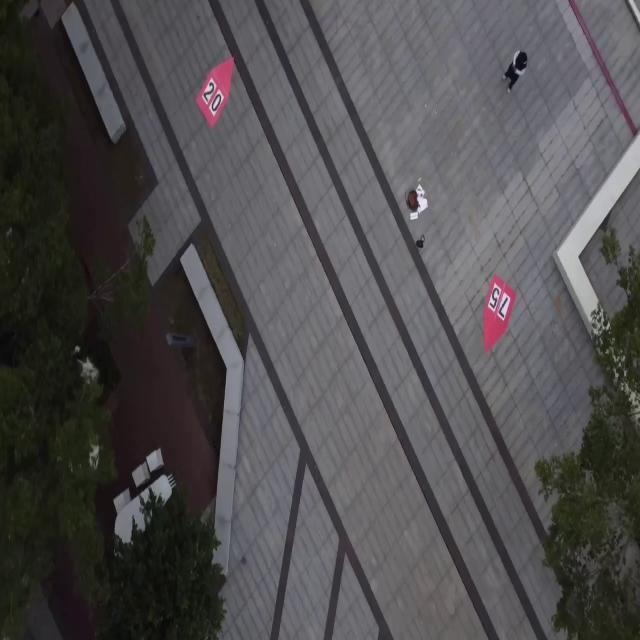-sign-: (195, 55, 235, 129), (483, 276, 516, 354)
